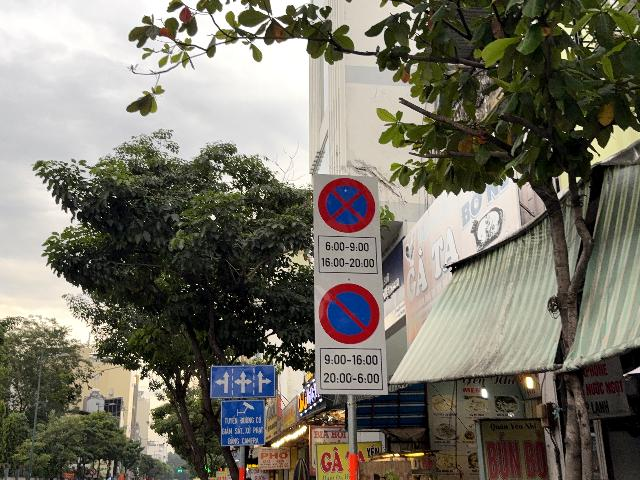cam-do-xe: (319, 283, 380, 344)
cam-dung-va-do-xe: (318, 177, 376, 234)
